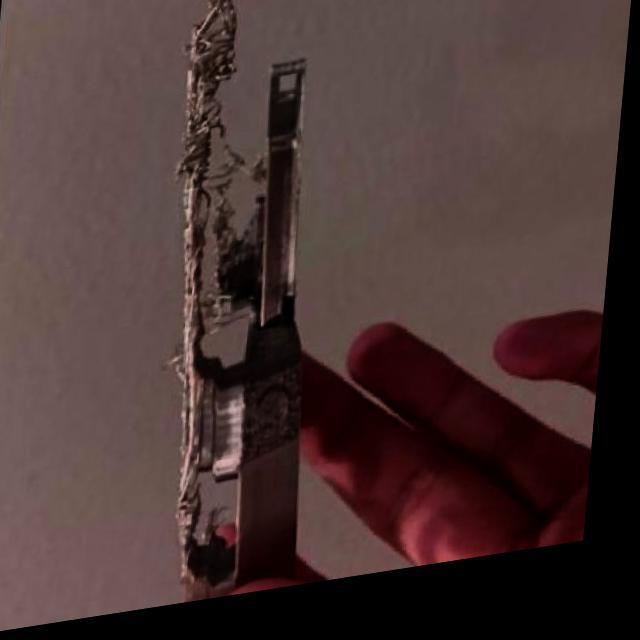spaghetti: (156, 0, 263, 381), (181, 456, 236, 558)
